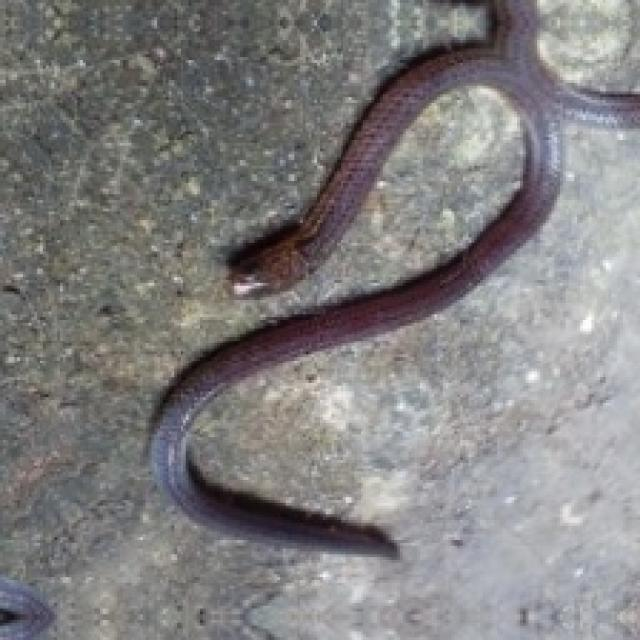gervais worm snake: (151, 0, 637, 554)
